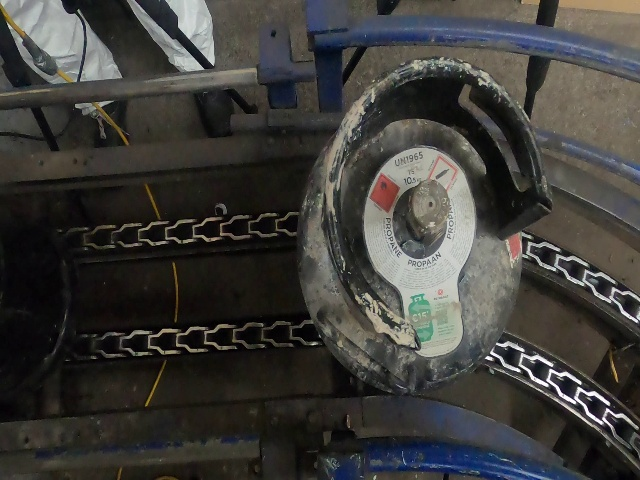gas_bottle: (0, 5, 626, 478)
